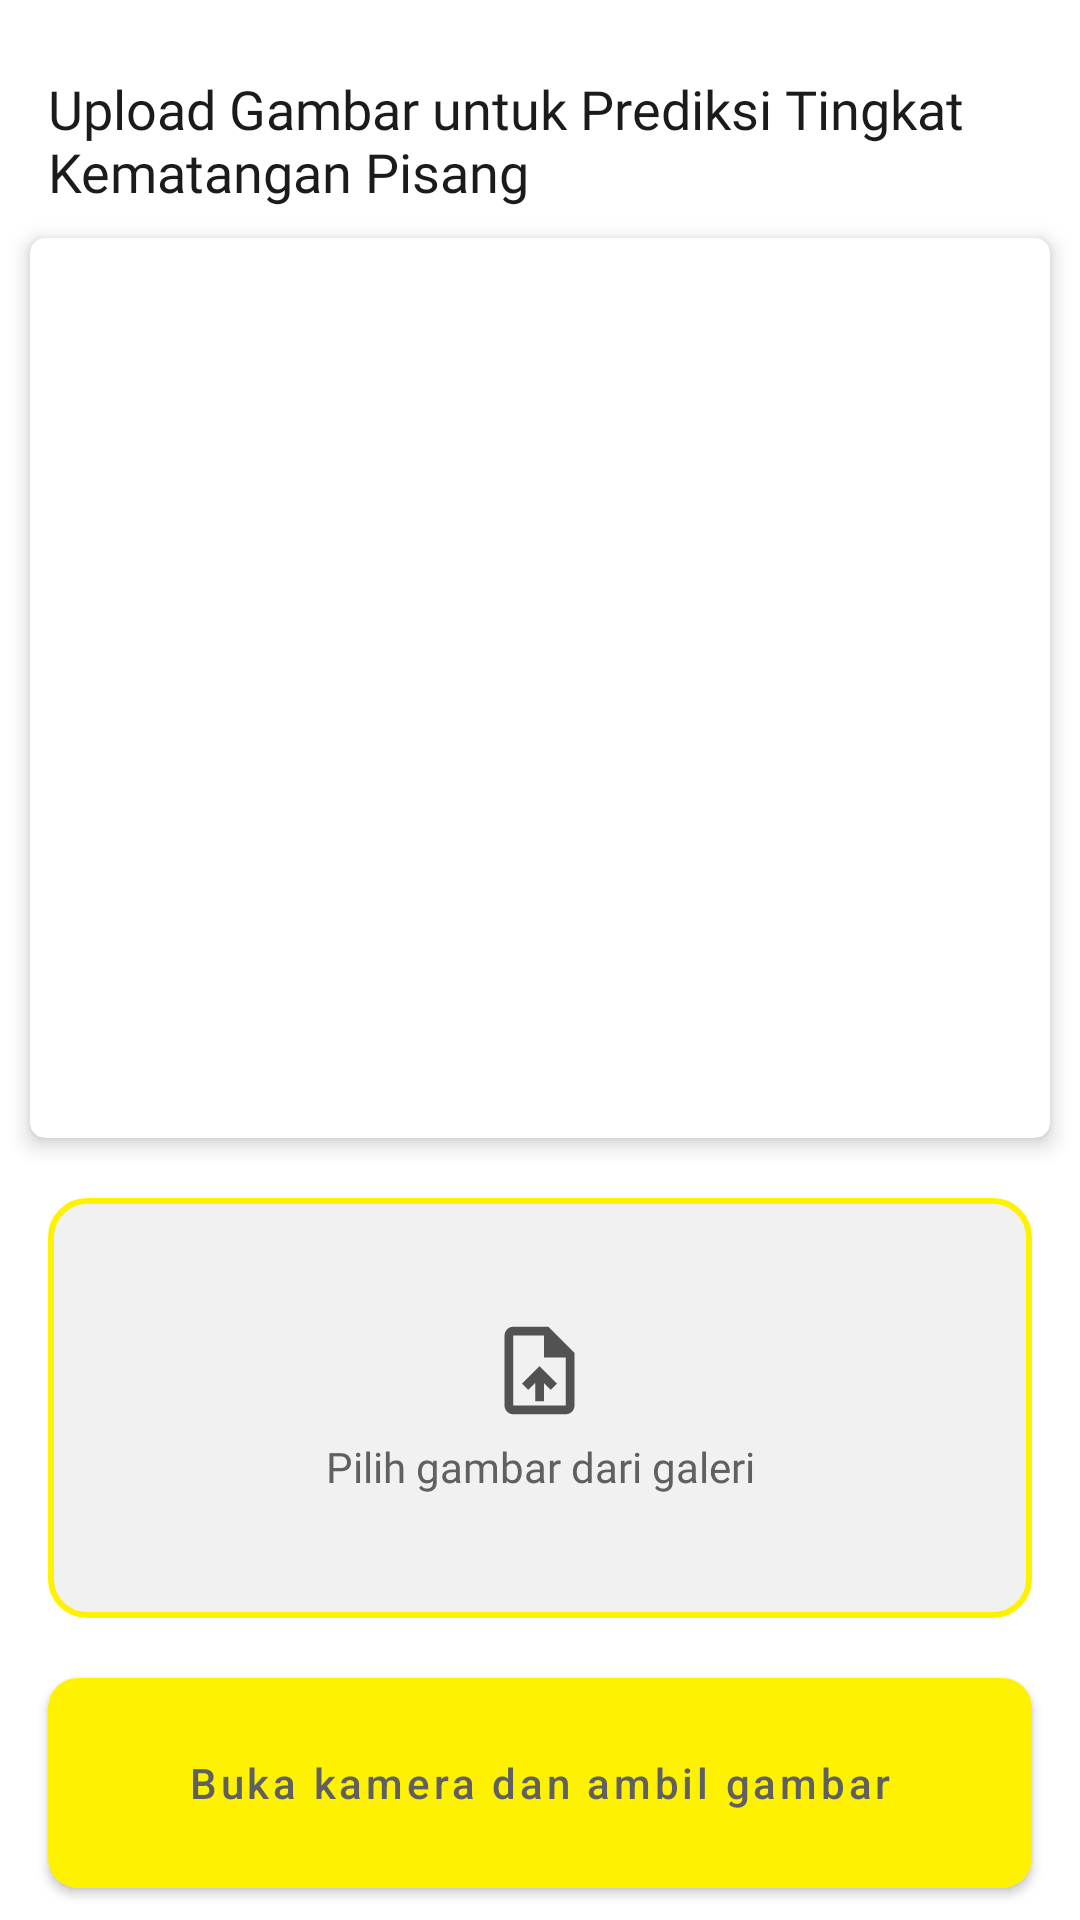

Screen size 1080px×1920px. Icon name, then its center in pixels as [x,y]:
upload file: [539,1370]
